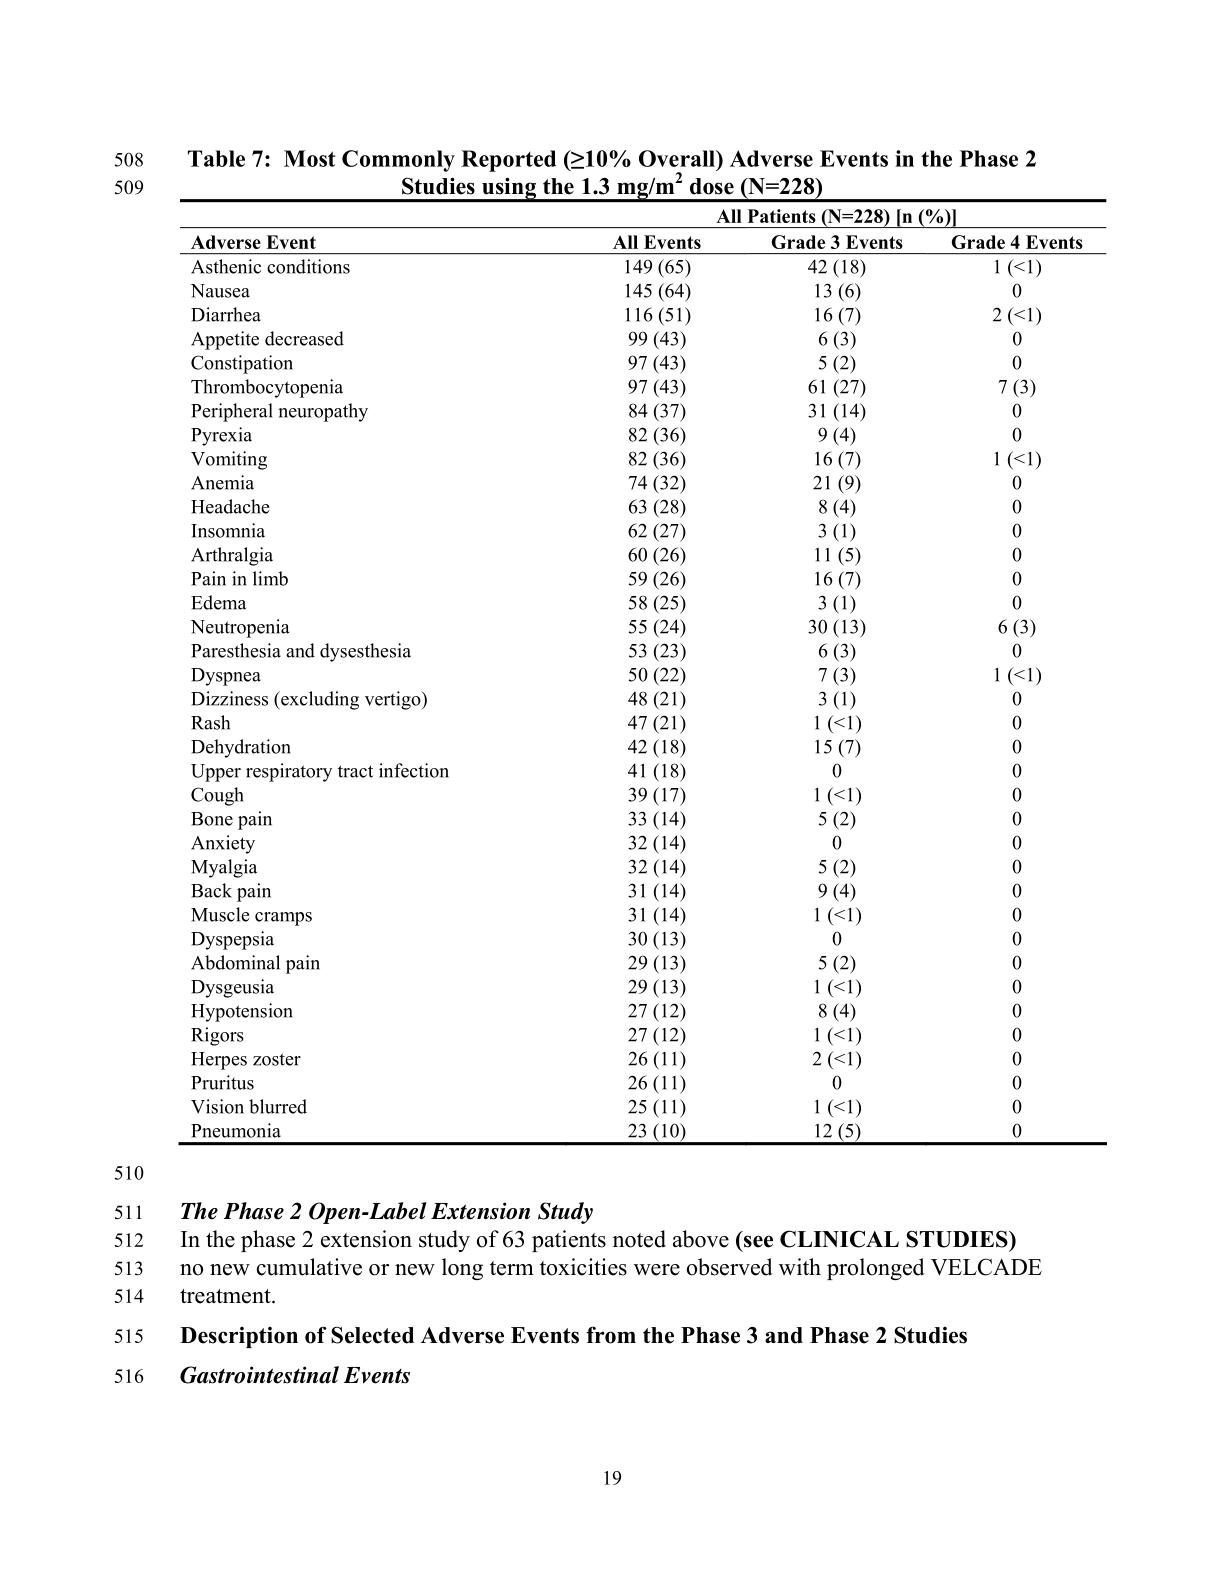partial_lined_merged_cells: (175, 195, 1110, 1147)
